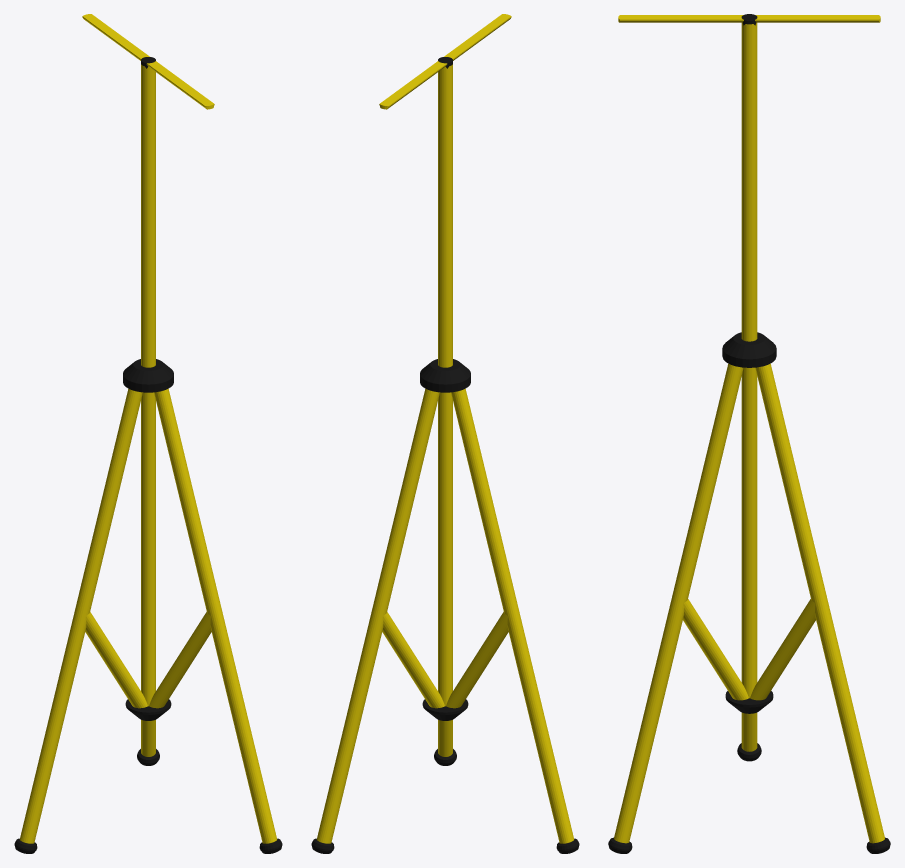
The model's file is Work Light Stand.fbx.
3 views of the same model, side by side, from view 1: azimuth 30°, elevation 25°; view 2: azimuth 150°, elevation 25°; view 3: azimuth 270°, elevation 25° (orthographic). The views are drawn at different scales.
Visible parts, largest first — view 1: Main pole, Leg, Leg.002, Support, Support.001, Slider, Leg.001; view 2: Main pole, Leg, Leg.001, Support, Support.002, Slider, Leg.002; view 3: Main pole, Leg.001, Leg.002, Support.001, Support.002, Slider, Leg.
Part boxes in pixels (x1,y1,x2,y2): Main pole: (82,14,214,720); Leg: (14,388,142,853); Leg.002: (154,388,282,853); Support: (85,612,147,708); Support.001: (149,612,211,708); Slider: (123,359,173,392); Leg.001: (137,720,159,765); Main pole: (379,14,511,720); Leg: (451,388,579,853); Leg.001: (311,388,439,853); Support: (446,612,508,708); Support.002: (382,612,444,708); Slider: (420,359,470,392); Leg.002: (434,720,456,765); Main pole: (618,14,880,713); Leg.001: (755,363,890,853); Leg.002: (608,363,743,853); Support.001: (683,599,748,700); Support.002: (750,599,815,700); Slider: (722,332,776,367); Leg: (737,712,761,761).
Bounding box in the file's own units: 31 × 111 × 35.33.
